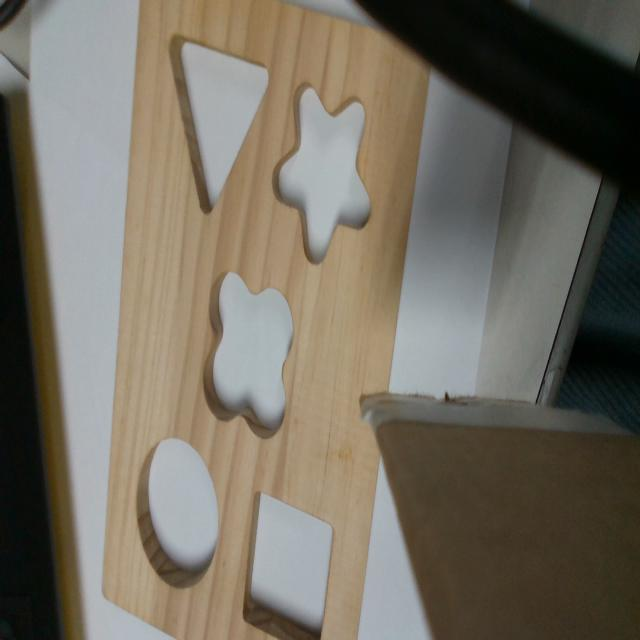circle: (135, 438, 220, 591)
flower: (203, 273, 293, 439)
square: (241, 487, 334, 638)
star: (272, 81, 372, 260)
triangle: (166, 28, 270, 216)
